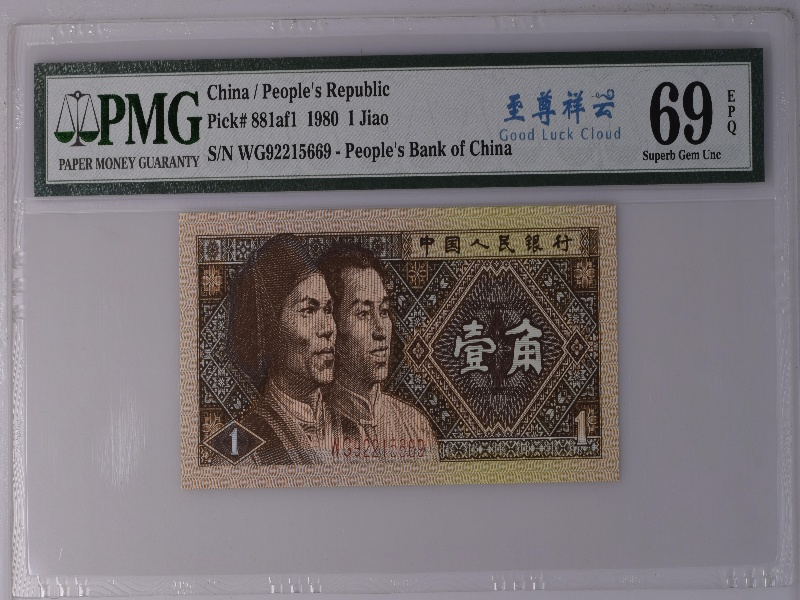papernote: (176, 206, 623, 490)
